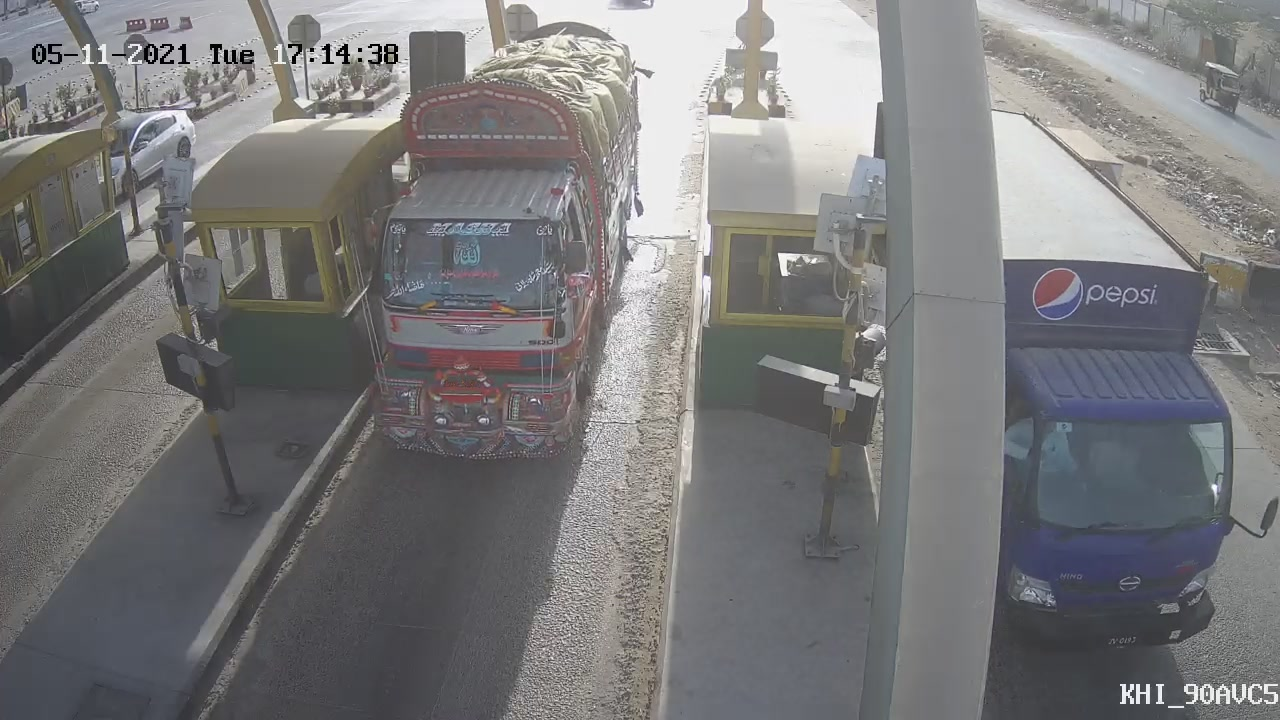F5: (320, 8, 676, 490)
